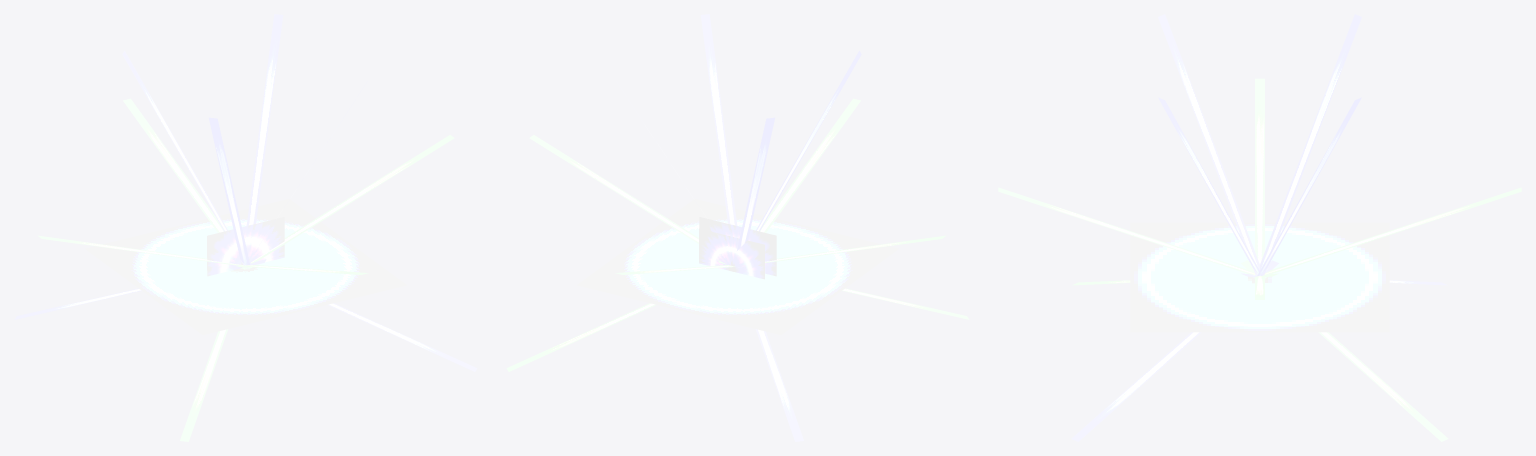
The model's file is sfx_glorb_boxing_attack2.glb.
3 views of the same model, side by side, from view 1: azimuth 30°, elevation 25°; view 2: azimuth 150°, elevation 25°; view 3: azimuth 270°, elevation 25° (orthographic). The views are drawn at different scales.
Visible parts, largest first — view 1: sfx_glorb_boxing_attack2_obj0, sfx_glorb_boxing_attack2_obj1, sfx_glorb_boxing_attack2_obj3, sfx_glorb_boxing_attack2_obj5, sfx_glorb_boxing_attack2_obj9, sfx_glorb_boxing_attack2_obj10, sfx_glorb_boxing_attack2_obj12, sfx_glorb_boxing_attack2_obj6, sfx_glorb_boxing_attack2_obj11, sfx_glorb_boxing_attack2_obj8, sfx_glorb_boxing_attack2_obj13; view 2: sfx_glorb_boxing_attack2_obj0, sfx_glorb_boxing_attack2_obj15, sfx_glorb_boxing_attack2_obj4, sfx_glorb_boxing_attack2_obj7, sfx_glorb_boxing_attack2_obj1, sfx_glorb_boxing_attack2_obj6, sfx_glorb_boxing_attack2_obj10, sfx_glorb_boxing_attack2_obj13, sfx_glorb_boxing_attack2_obj5, sfx_glorb_boxing_attack2_obj14, sfx_glorb_boxing_attack2_obj8, sfx_glorb_boxing_attack2_obj12; view 3: sfx_glorb_boxing_attack2_obj0, sfx_glorb_boxing_attack2_obj5, sfx_glorb_boxing_attack2_obj6, sfx_glorb_boxing_attack2_obj8, sfx_glorb_boxing_attack2_obj11, sfx_glorb_boxing_attack2_obj14, sfx_glorb_boxing_attack2_obj7, sfx_glorb_boxing_attack2_obj9, sfx_glorb_boxing_attack2_obj3, sfx_glorb_boxing_attack2_obj4.
Boxes of the visible parts, <box> form: sfx_glorb_boxing_attack2_obj0: <box>85,199,406,334</box>; sfx_glorb_boxing_attack2_obj1: <box>207,217,284,276</box>; sfx_glorb_boxing_attack2_obj3: <box>246,14,283,263</box>; sfx_glorb_boxing_attack2_obj5: <box>209,117,249,265</box>; sfx_glorb_boxing_attack2_obj9: <box>123,98,252,269</box>; sfx_glorb_boxing_attack2_obj10: <box>243,135,454,269</box>; sfx_glorb_boxing_attack2_obj12: <box>180,267,249,441</box>; sfx_glorb_boxing_attack2_obj6: <box>122,51,245,265</box>; sfx_glorb_boxing_attack2_obj11: <box>245,267,477,371</box>; sfx_glorb_boxing_attack2_obj8: <box>38,235,251,267</box>; sfx_glorb_boxing_attack2_obj13: <box>14,259,266,319</box>; sfx_glorb_boxing_attack2_obj0: <box>577,199,898,334</box>; sfx_glorb_boxing_attack2_obj15: <box>699,228,764,279</box>; sfx_glorb_boxing_attack2_obj4: <box>700,14,737,225</box>; sfx_glorb_boxing_attack2_obj7: <box>760,98,860,232</box>; sfx_glorb_boxing_attack2_obj1: <box>699,217,776,276</box>; sfx_glorb_boxing_attack2_obj6: <box>737,117,774,250</box>; sfx_glorb_boxing_attack2_obj10: <box>529,135,698,243</box>; sfx_glorb_boxing_attack2_obj13: <box>755,329,803,441</box>; sfx_glorb_boxing_attack2_obj5: <box>756,51,861,231</box>; sfx_glorb_boxing_attack2_obj14: <box>506,303,656,371</box>; sfx_glorb_boxing_attack2_obj8: <box>765,235,945,262</box>; sfx_glorb_boxing_attack2_obj12: <box>718,260,969,319</box>; sfx_glorb_boxing_attack2_obj0: <box>1130,222,1389,332</box>; sfx_glorb_boxing_attack2_obj5: <box>1158,14,1259,275</box>; sfx_glorb_boxing_attack2_obj6: <box>1260,14,1361,275</box>; sfx_glorb_boxing_attack2_obj8: <box>1255,78,1264,263</box>; sfx_glorb_boxing_attack2_obj11: <box>1071,260,1278,441</box>; sfx_glorb_boxing_attack2_obj14: <box>1241,260,1448,441</box>; sfx_glorb_boxing_attack2_obj7: <box>998,187,1265,279</box>; sfx_glorb_boxing_attack2_obj9: <box>1254,187,1521,279</box>; sfx_glorb_boxing_attack2_obj3: <box>1257,97,1361,275</box>; sfx_glorb_boxing_attack2_obj4: <box>1158,97,1262,275</box>.
Bounding box in the file's own units: 1.66 × 1.07 × 1.66.
4 materials, 4 textured.
